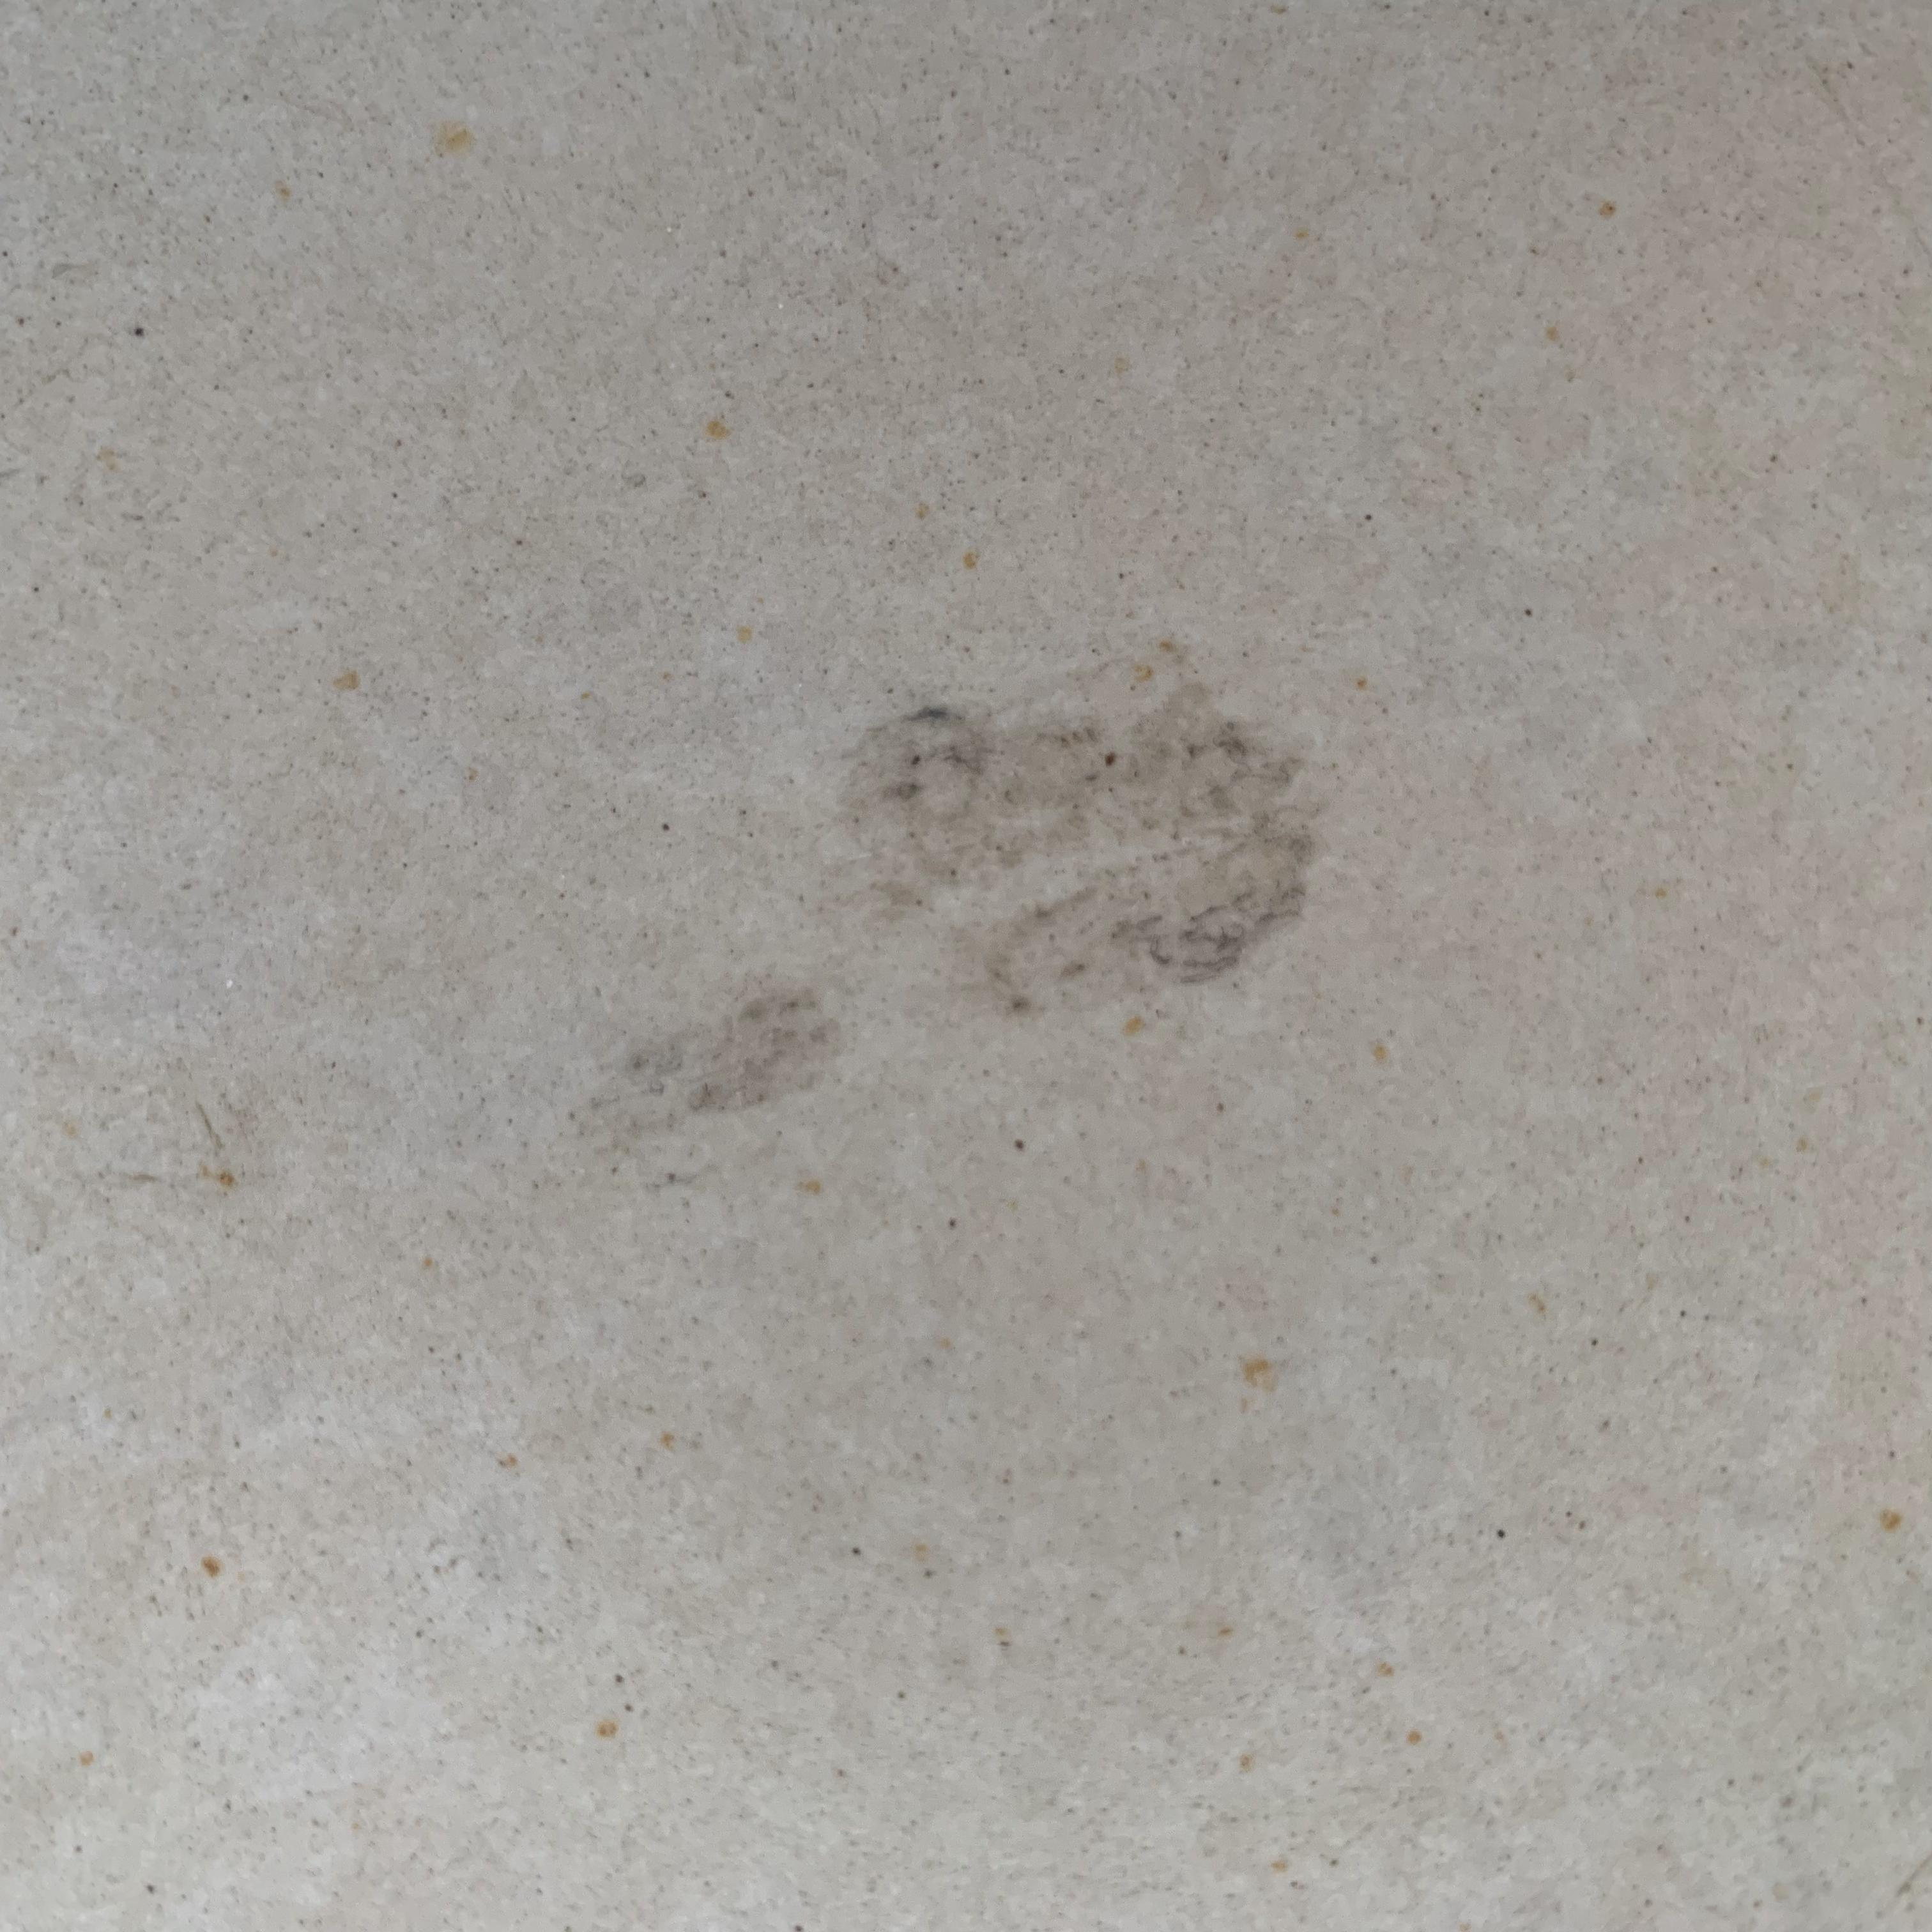grey spot: (835, 639, 1325, 1019), (584, 987, 844, 1111)
